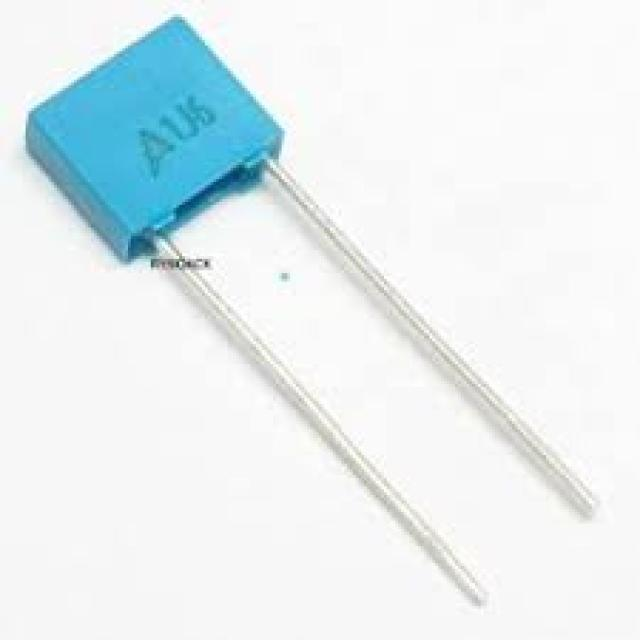Capacitor: (26, 14, 284, 265)
